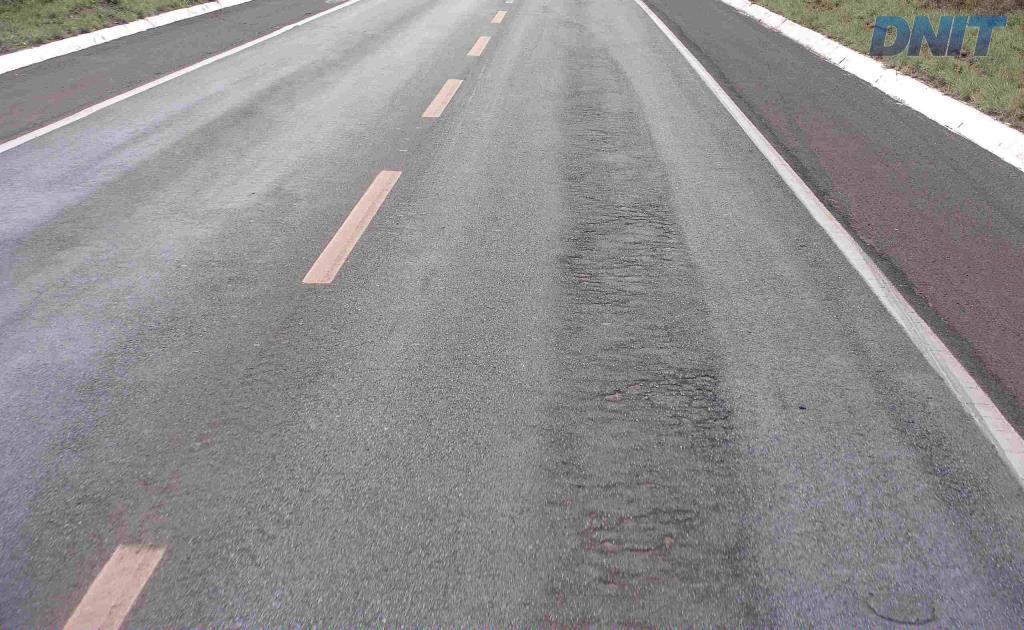crack: (595, 360, 736, 459), (621, 531, 700, 583), (615, 505, 700, 534), (565, 254, 600, 289), (575, 286, 626, 306)
